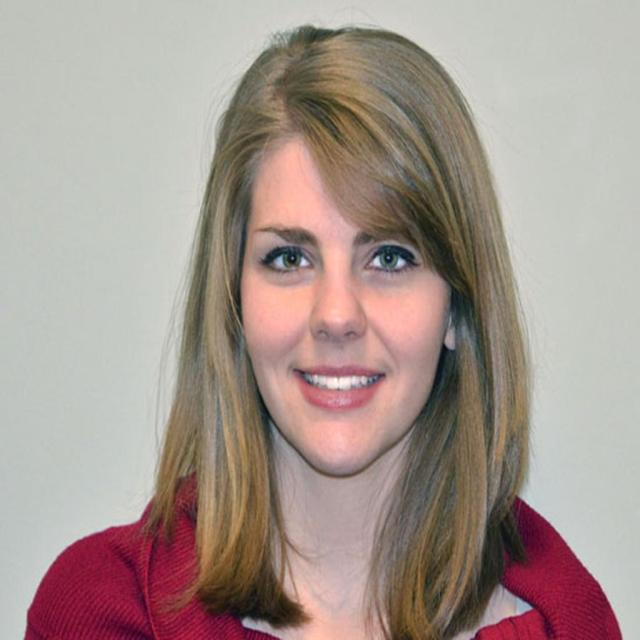Face: (235, 117, 451, 471)
